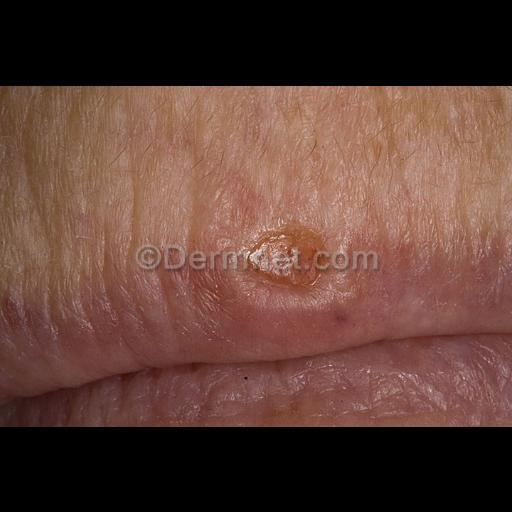Skin_Lesion: (244, 222, 332, 290), (330, 298, 354, 330)
